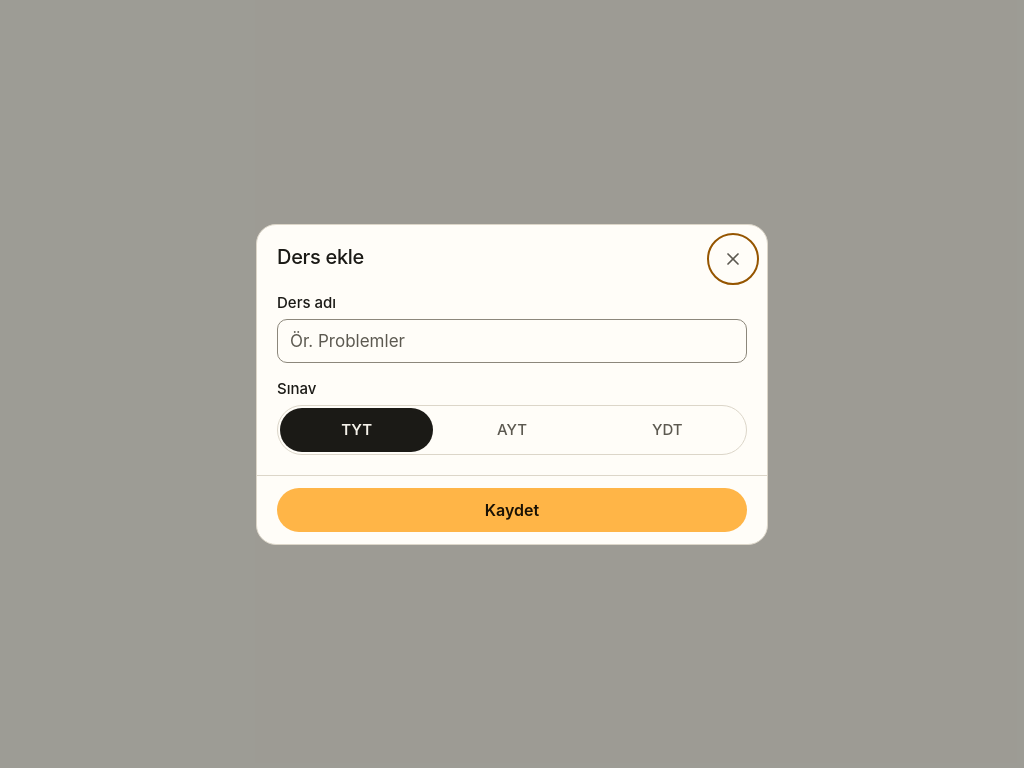
SubjectSheet › kaydetme başarısız olursa hata gösterir
Step 1. Type "Geometri" into the field labelled "Ders adı" → (512, 340), box [277,318,747,362]
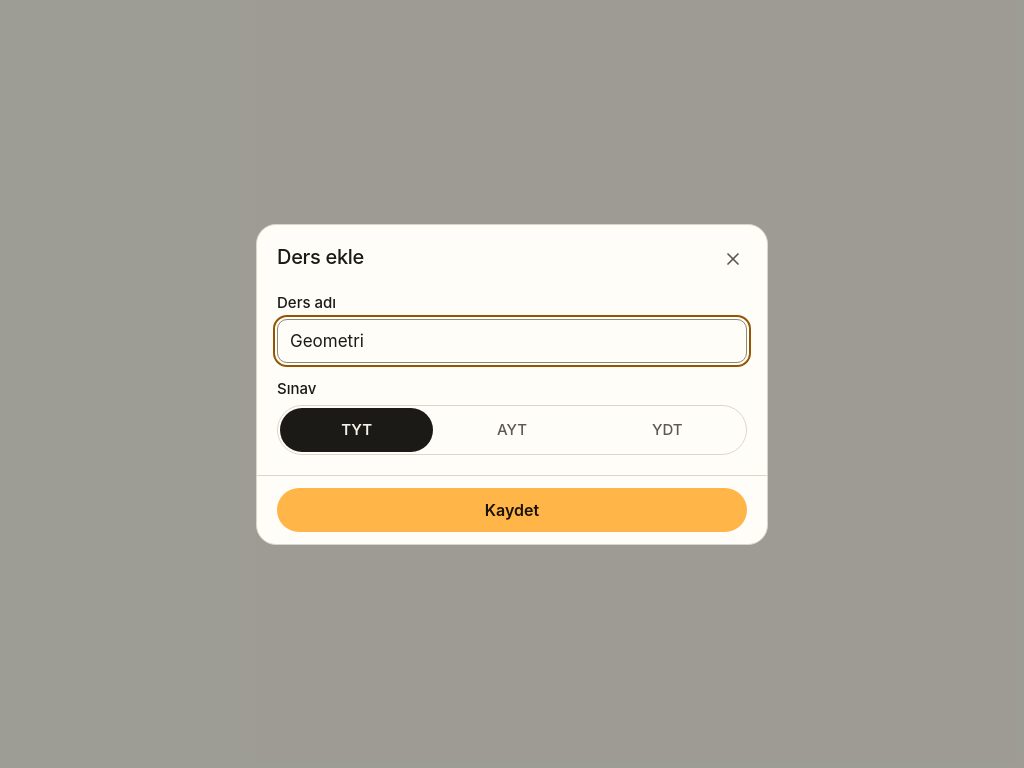
Step 2. Click the button "Kaydet" → (512, 510), box [277,488,747,532]
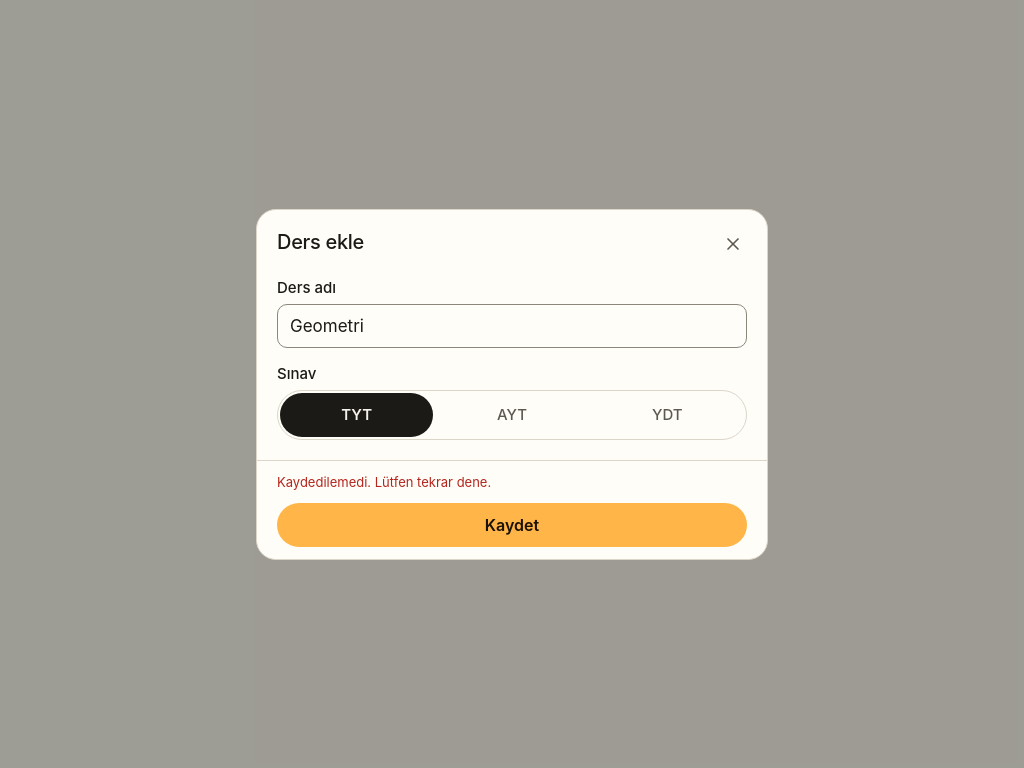
Result: the message shows "Kaydedilemedi" at [277,474,491,490]
